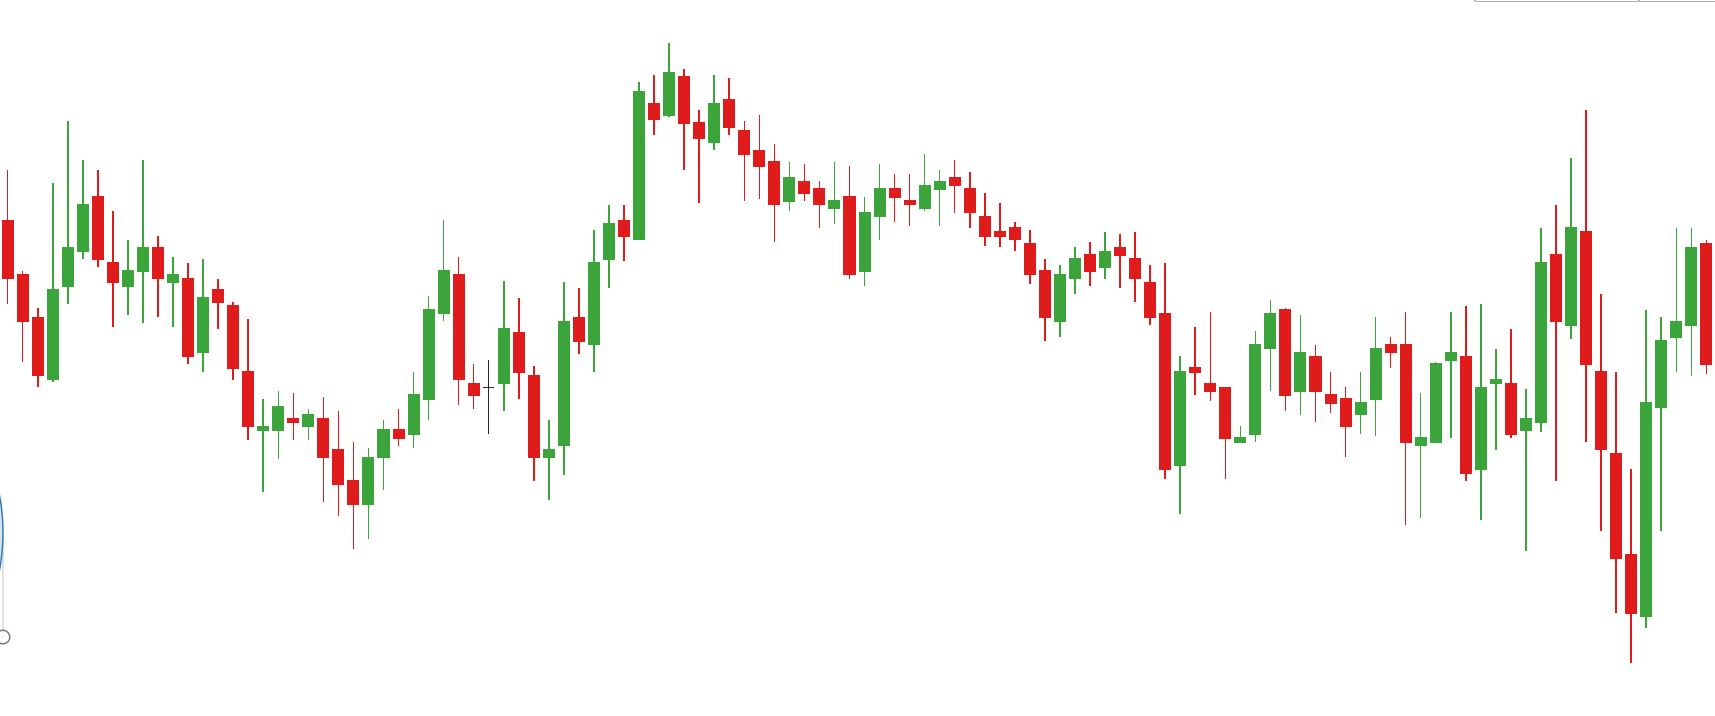buy: (1518, 404, 1654, 665), (256, 412, 375, 553), (1335, 379, 1428, 528)
